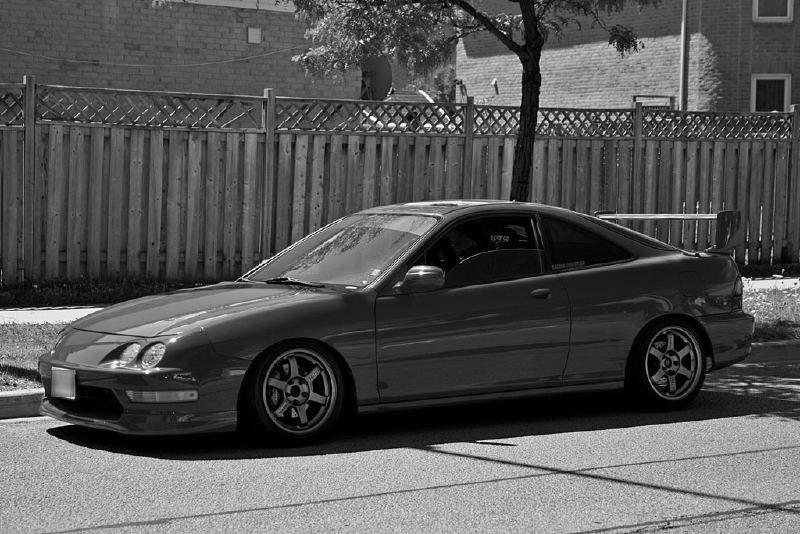car: (38, 201, 761, 452)
